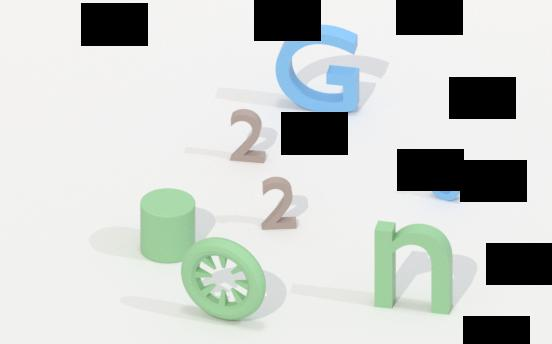2: (226, 106, 270, 165), (260, 174, 298, 232)
6: (426, 145, 467, 204)
G-hoa: (273, 19, 365, 120)
n: (372, 216, 456, 317)
tron: (179, 235, 270, 323)
tru: (138, 183, 198, 267)
